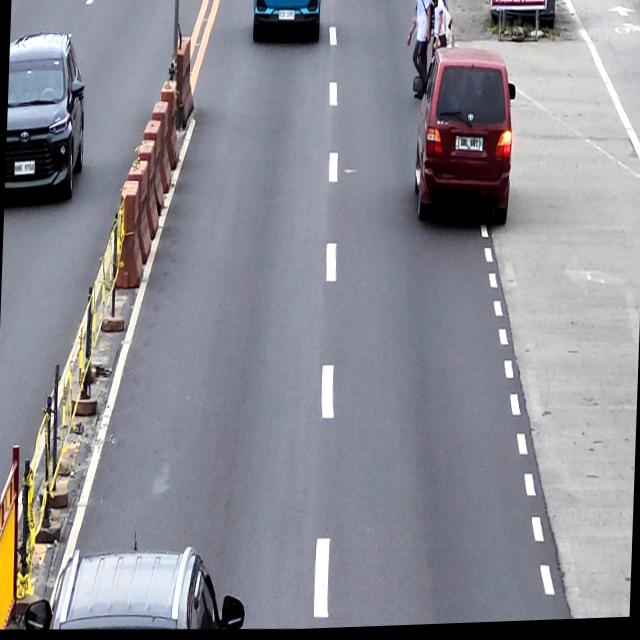Car: (28, 536, 224, 636), (410, 52, 512, 228), (250, 0, 324, 44)
License-Plate: (456, 135, 486, 157), (278, 10, 296, 24)
